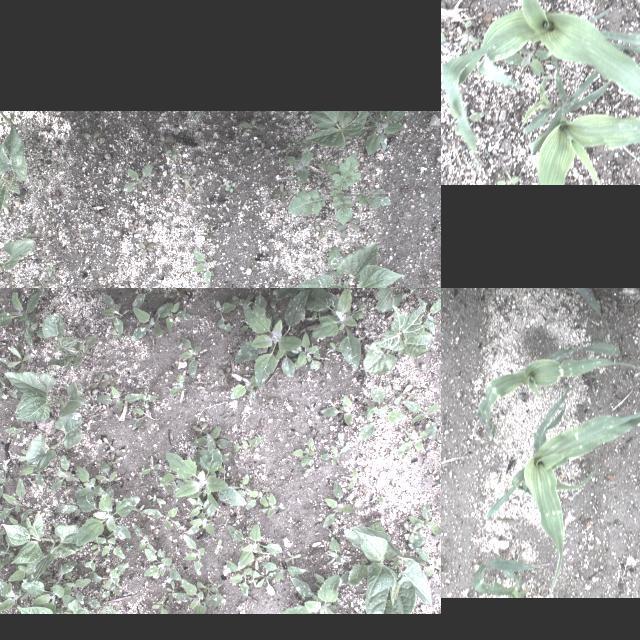crop: (441, 0, 640, 168), (481, 383, 640, 593), (475, 342, 640, 436), (517, 61, 640, 185), (278, 110, 406, 183), (341, 518, 432, 614), (361, 297, 441, 380), (1, 511, 81, 581), (286, 241, 403, 288), (2, 370, 86, 424), (511, 288, 609, 332), (472, 558, 552, 598), (26, 414, 80, 472), (0, 110, 27, 225), (38, 314, 78, 370), (0, 229, 34, 288), (372, 288, 441, 311), (15, 606, 51, 614)
weed: (283, 152, 391, 224), (234, 290, 312, 388), (158, 437, 245, 518), (306, 288, 365, 367), (75, 496, 138, 544), (278, 572, 342, 614), (357, 386, 403, 442), (226, 522, 280, 566), (0, 292, 38, 346), (172, 578, 228, 614), (19, 580, 76, 612), (130, 300, 172, 340), (323, 479, 355, 528), (82, 537, 126, 571), (143, 544, 183, 580), (504, 48, 550, 78), (407, 502, 441, 537), (96, 388, 142, 412), (292, 331, 321, 369), (319, 394, 353, 426), (396, 429, 436, 455), (404, 400, 438, 430), (178, 336, 202, 378), (0, 479, 24, 521), (182, 534, 208, 572), (100, 564, 128, 598), (260, 562, 306, 582), (223, 564, 250, 598), (142, 506, 180, 530), (58, 492, 96, 516), (123, 163, 153, 193), (99, 293, 123, 329), (72, 334, 96, 368), (162, 302, 190, 331), (76, 468, 104, 497), (190, 427, 226, 449), (95, 460, 116, 496), (0, 584, 27, 612), (415, 548, 441, 577), (128, 406, 162, 428), (42, 563, 76, 585), (290, 437, 314, 468), (0, 527, 12, 589), (250, 568, 276, 596), (187, 510, 215, 536), (192, 248, 212, 284), (229, 435, 265, 455), (258, 493, 284, 519), (387, 383, 417, 405), (276, 288, 348, 297), (51, 456, 71, 488), (232, 376, 256, 402), (7, 344, 31, 370), (455, 20, 477, 48), (320, 445, 350, 465), (212, 300, 232, 330), (238, 116, 264, 138), (334, 217, 360, 239), (59, 592, 85, 614), (63, 575, 91, 595), (131, 522, 149, 552), (246, 488, 270, 510), (85, 598, 118, 614), (18, 466, 46, 484), (402, 526, 426, 546), (168, 370, 185, 398), (493, 168, 522, 184), (137, 458, 161, 476), (129, 288, 154, 305), (326, 536, 340, 566), (0, 460, 11, 498), (183, 497, 203, 517), (280, 353, 296, 377), (150, 594, 170, 612), (0, 376, 17, 396), (2, 426, 26, 440), (80, 129, 100, 145), (346, 466, 359, 489), (6, 565, 24, 581), (102, 372, 118, 388), (139, 390, 153, 408), (197, 581, 216, 593), (314, 226, 330, 240), (140, 242, 154, 258), (230, 294, 252, 304), (146, 495, 164, 507), (172, 172, 188, 185), (441, 19, 449, 44), (219, 364, 229, 384), (101, 436, 113, 452), (165, 583, 175, 601), (167, 288, 185, 298), (278, 178, 286, 200), (91, 372, 102, 388), (163, 148, 180, 158), (237, 475, 249, 489), (194, 422, 208, 434), (630, 152, 640, 168), (269, 300, 277, 320), (283, 554, 301, 562), (420, 384, 436, 392), (328, 342, 340, 352), (110, 330, 122, 340), (0, 349, 8, 364), (43, 277, 53, 288), (44, 264, 56, 272), (215, 538, 221, 554), (223, 182, 234, 190), (19, 449, 25, 463), (334, 439, 344, 445), (158, 288, 178, 291), (26, 288, 46, 291), (125, 545, 134, 551), (437, 477, 441, 490), (187, 288, 203, 291), (378, 496, 384, 504), (43, 485, 49, 491), (304, 471, 308, 477), (240, 326, 246, 330)
